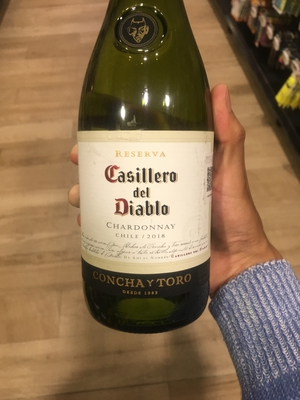casillero del diablo chardonnay: (77, 1, 219, 335)
